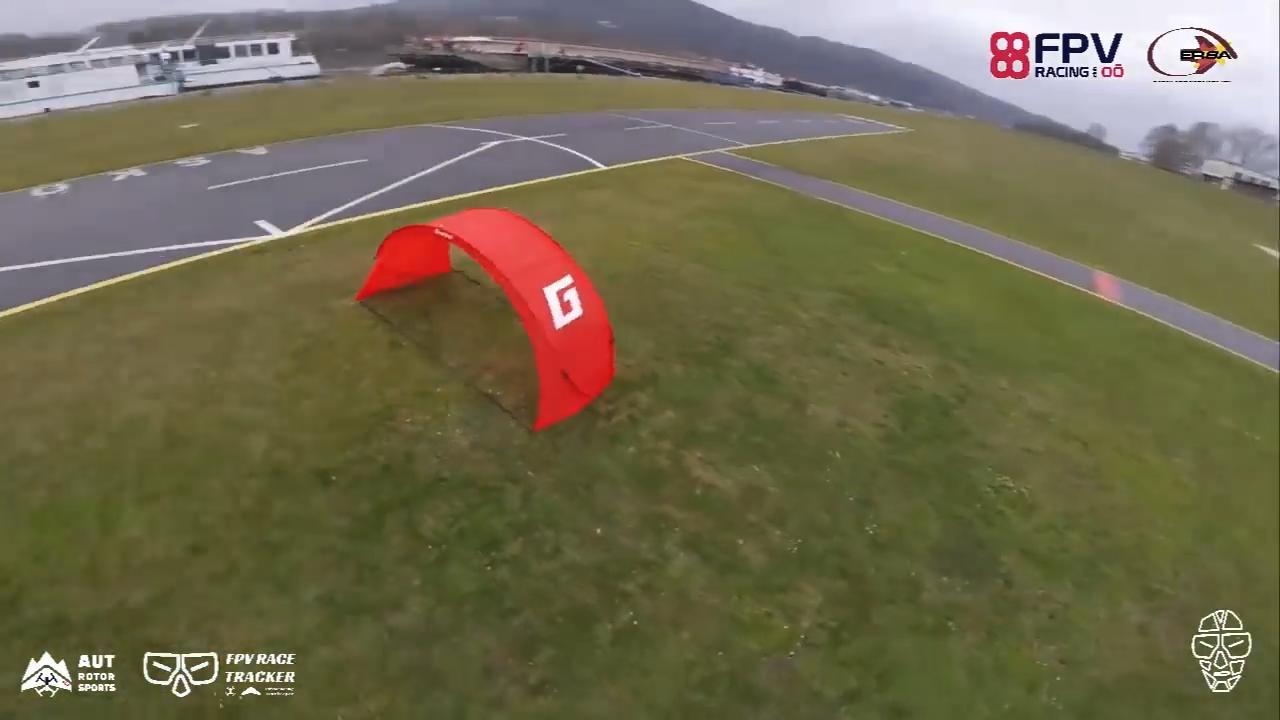gate: (352, 207, 613, 437)
